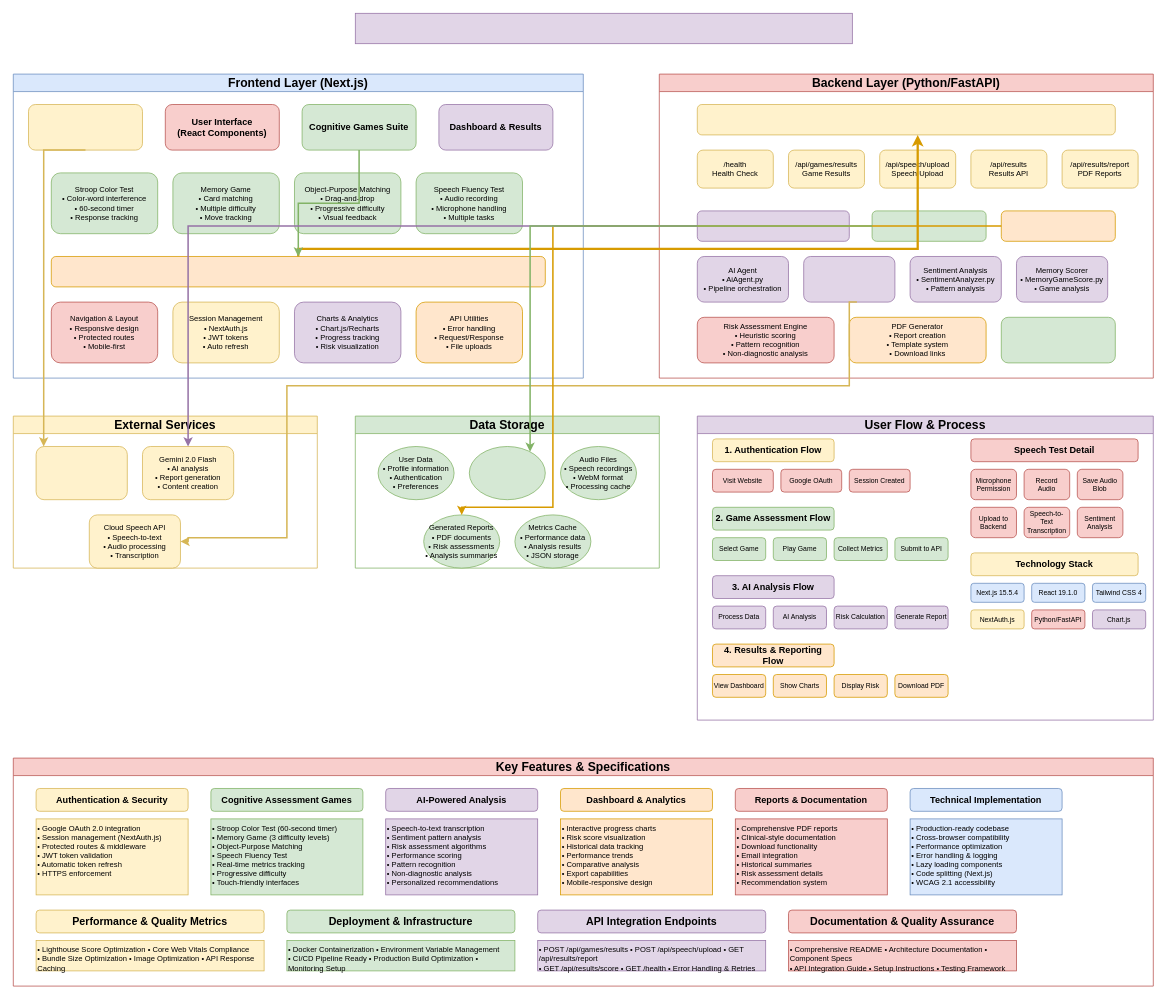
The diagram is 1167 pixels wide and 999 high, and some of its shapes have lost their labels. The centre of each missing label's shape, as x and y in pixels:
AI Analysis Pipeline: (x=773, y=225)
API Integration Layer: (x=298, y=271)
Authentication System: (x=85, y=127)
Data Processing: (x=928, y=225)
Early Spark - Dementia Early Detection System: (x=603, y=28)
File Storage • Audio files • Generated reports • Metrics cache: (x=1058, y=340)
Game Results • Scores & metrics • Performance data • Historical records: (x=507, y=473)
Google OAuth 2.0 • User authentication • Session management • Secure login: (x=81, y=473)
Report Generation: (x=1058, y=225)
REST API Endpoints: (x=906, y=119)
Speech-to-Text • SpeechToText.py • Whisper integration: (x=849, y=279)
